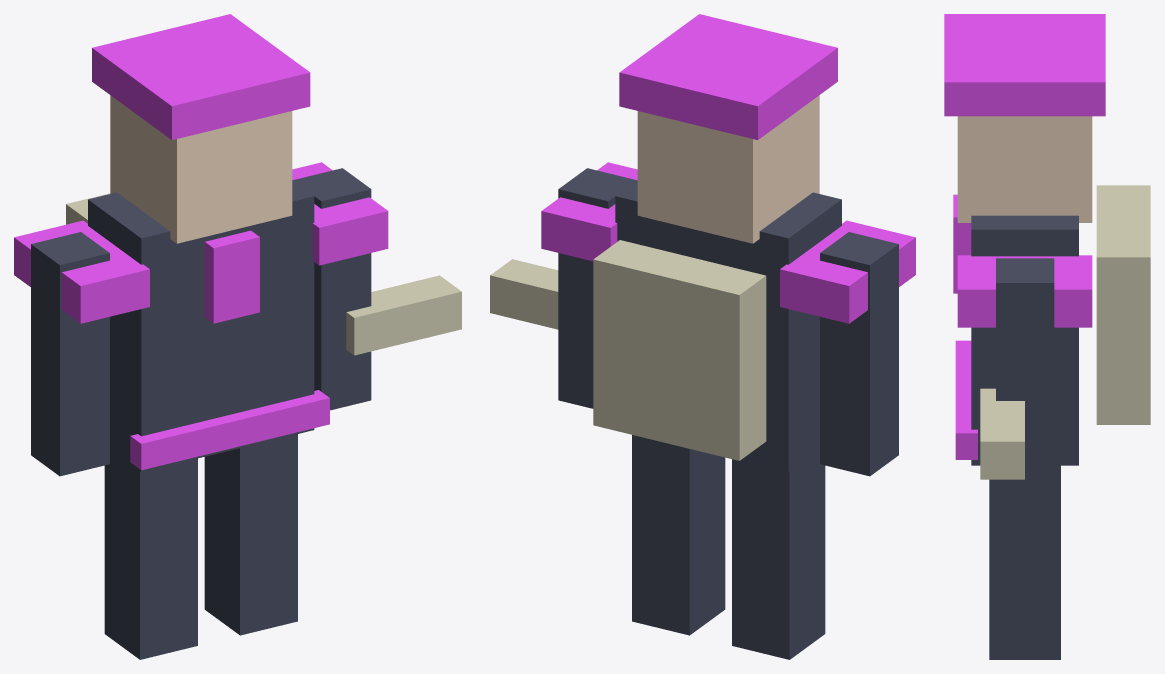
The model's file is 16_ossa_signalborn_tamer_near_static.glb.
3 renders of one model, left to right at view 1: azimuth 30°, elevation 25°; view 2: azimuth 150°, elevation 25°; view 3: azimuth 270°, elevation 25°, orthographic.
Parts seen in each view (by area): view 1: Ossa Signalborn, Tamer near Static; view 2: Ossa Signalborn, Tamer near Static; view 3: Ossa Signalborn, Tamer near Static.
Boxes of the visible parts, x1=… form: Ossa Signalborn, Tamer near Static: x1=14, y1=14, x2=461, y2=659; Ossa Signalborn, Tamer near Static: x1=490, y1=14, x2=915, y2=659; Ossa Signalborn, Tamer near Static: x1=944, y1=14, x2=1150, y2=659.
Size of the model in its own units: 1.12 by 1.54 by 0.5013.
